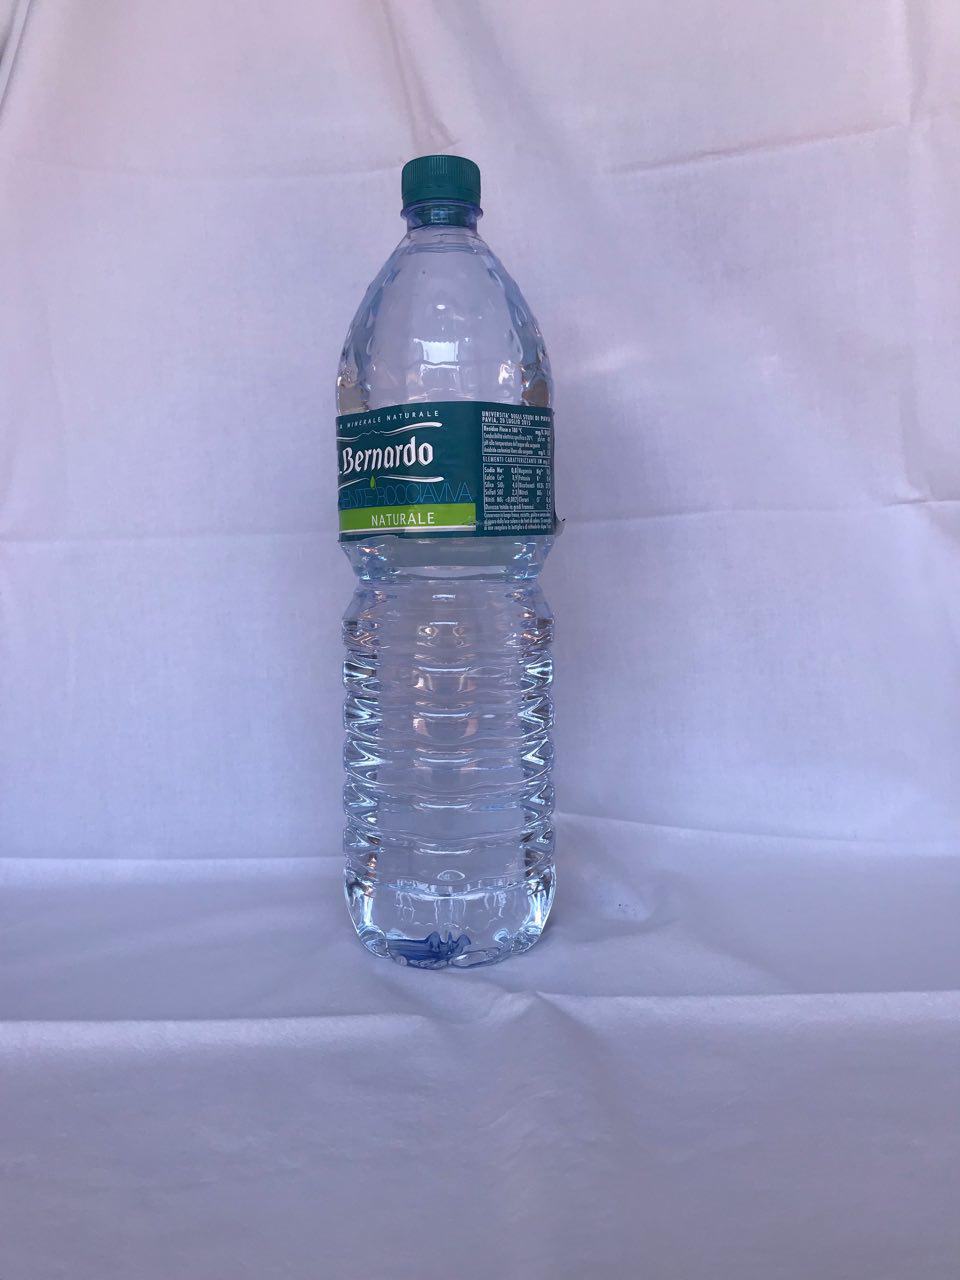san_bernardo: (332, 153, 557, 970)
